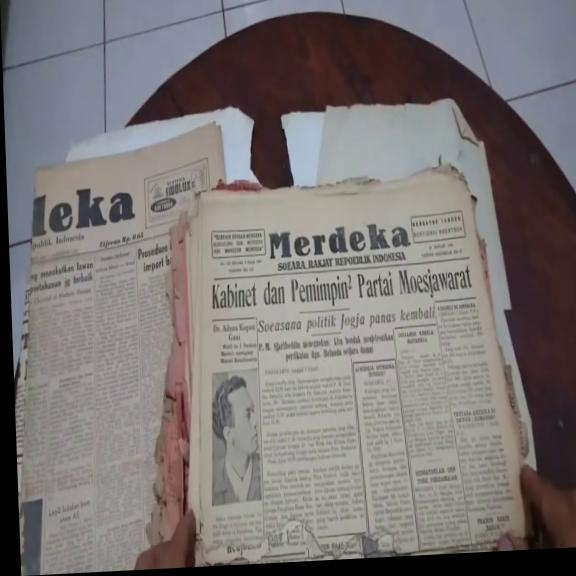Kertas: (31, 155, 241, 510)
